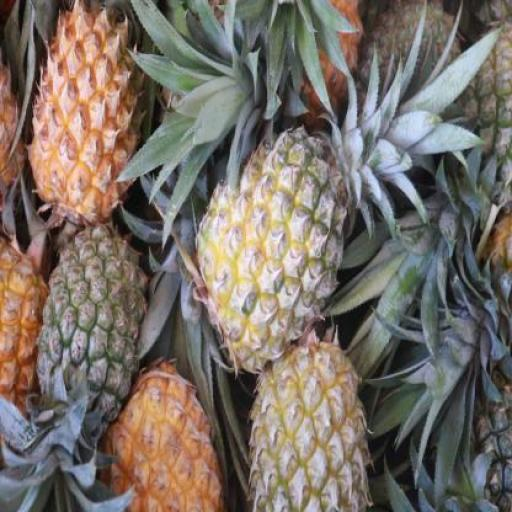------------------------------: (198, 124, 351, 372), (247, 327, 368, 512)
Pineapple - v8 v1: (30, 1, 142, 228), (100, 355, 221, 512)
